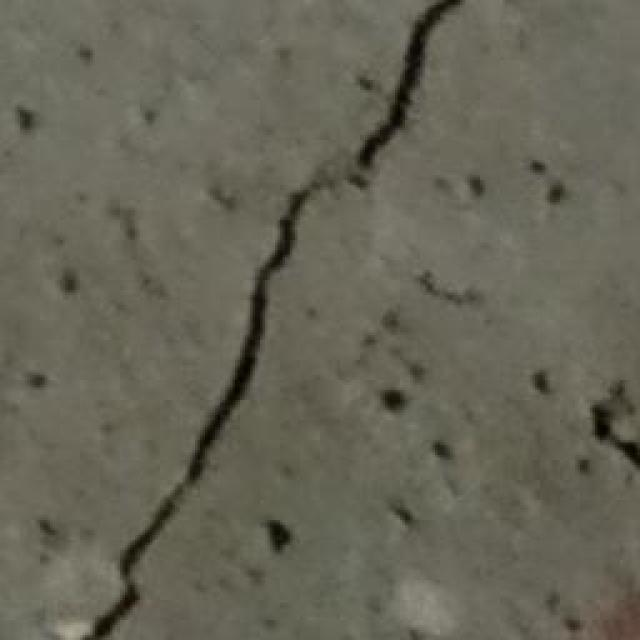Diagonal: (92, 0, 469, 640)
